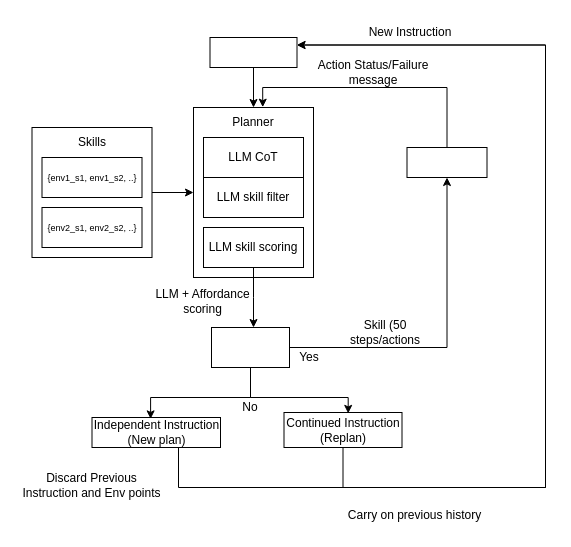
Image size: 571x547. Some labels were removed from this diagram. The box of each missing label's shape, as (x1, y1, x2, y2) in pixels:
Env: (406, 146, 487, 178)
Instruction: (209, 36, 297, 68)
Is action fine?: (210, 326, 290, 368)
